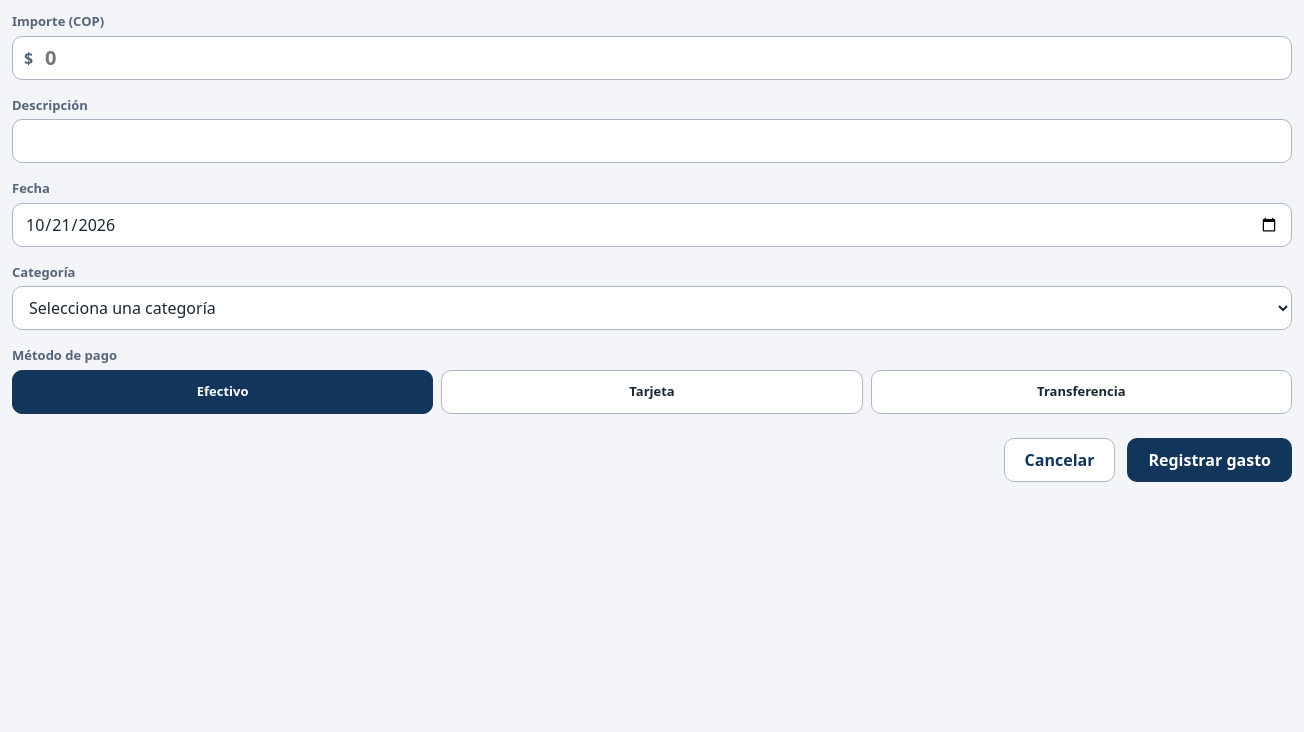
Test case: shows service errors when submission fails at the service level
The width and height of the screenshot is (1304, 732).
Type "15000" into the field labelled "Importe (COP)" at (652, 58), box [12, 36, 1292, 80]
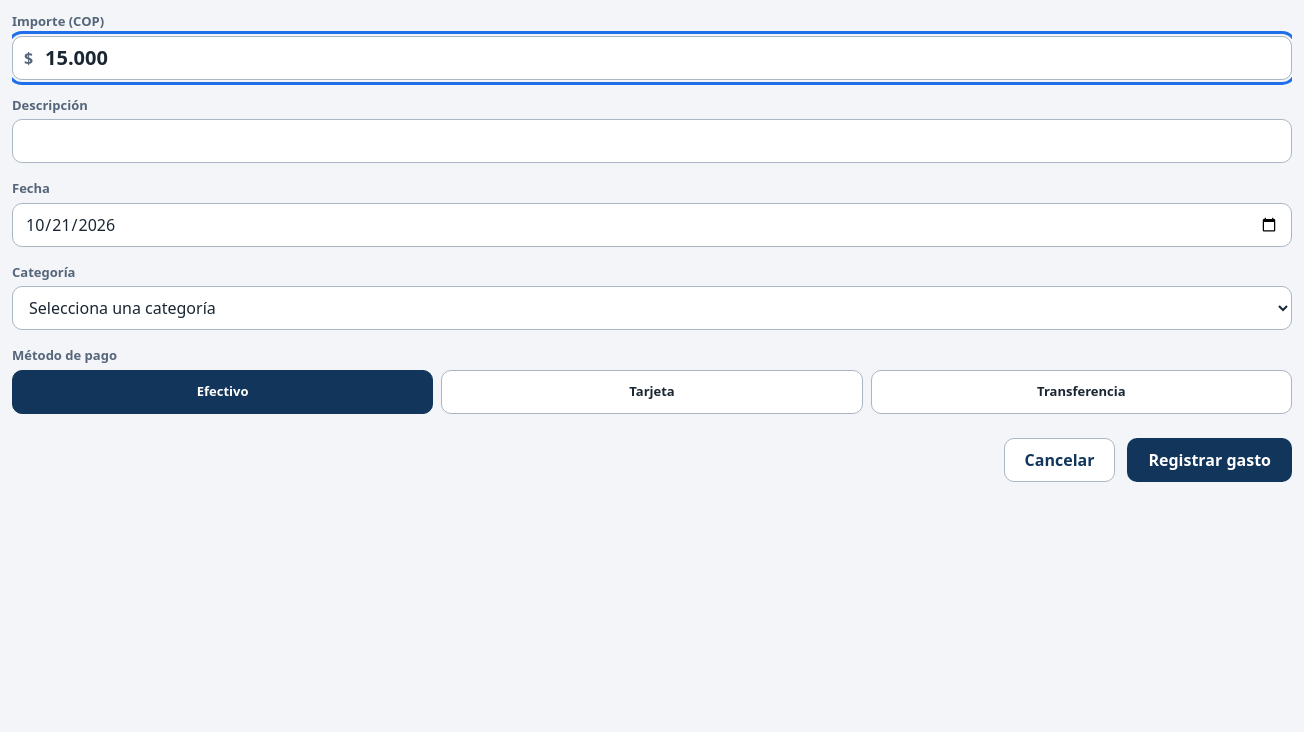
Type "Almuerzo" into the field labelled "Descripción" at (652, 141), box [12, 119, 1292, 163]
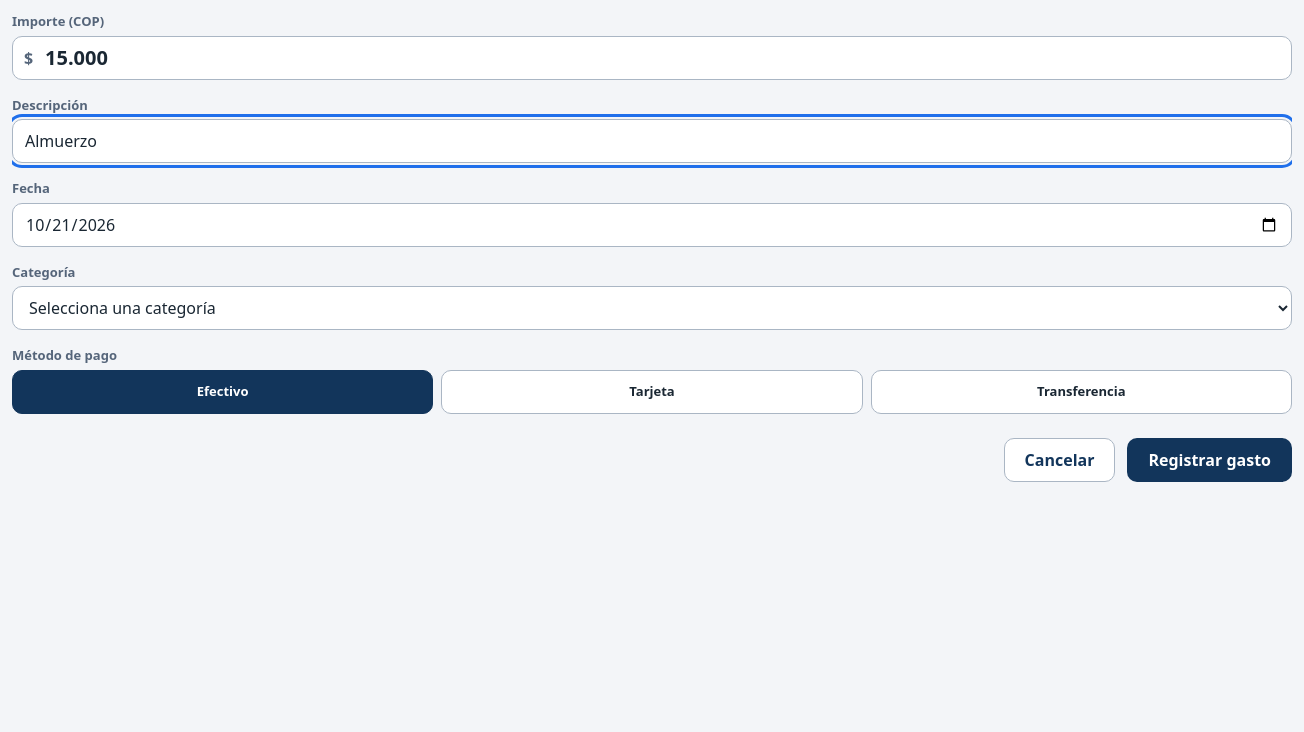
Select "Comida" in the dropdown labelled "Categoría" at (652, 308), box [12, 286, 1292, 330]
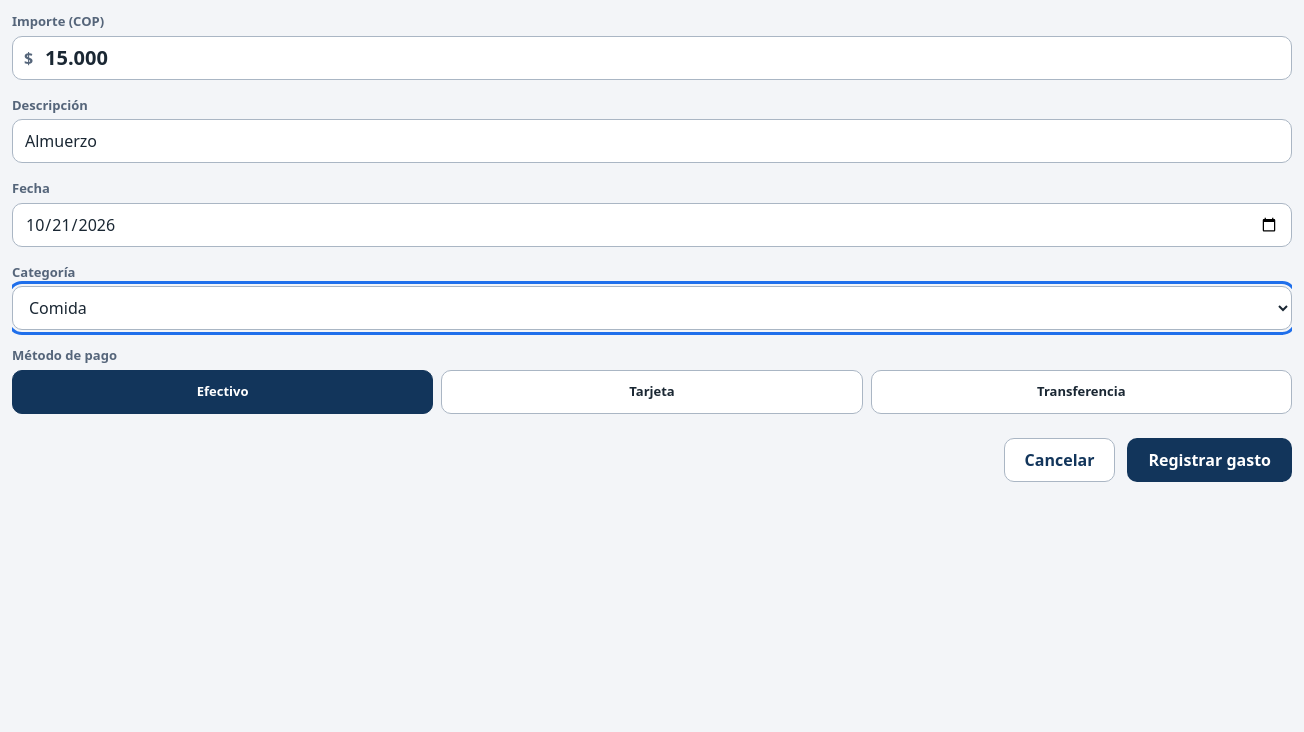
Click the button "Registrar gasto" at (1210, 460), box [1128, 438, 1292, 482]
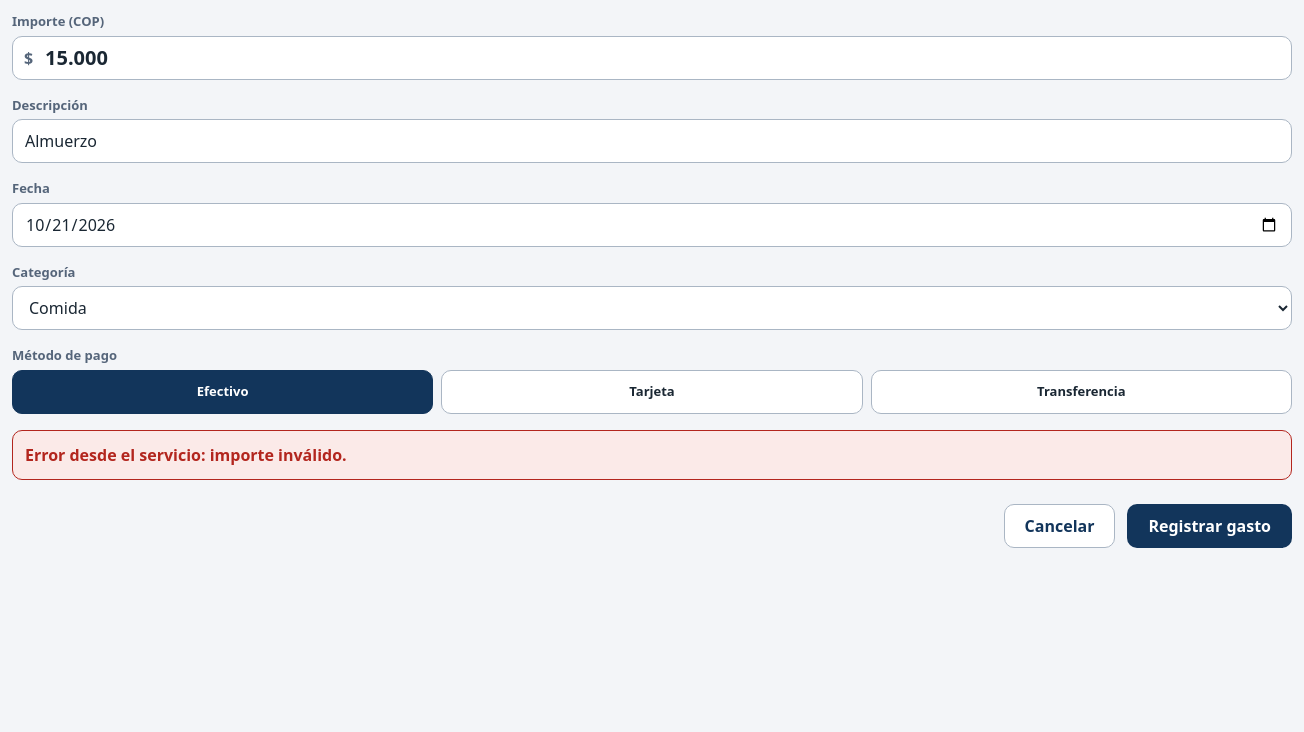
Result: the text "Error desde el servicio: importe inválido." is shown at [12, 430, 1292, 480]
